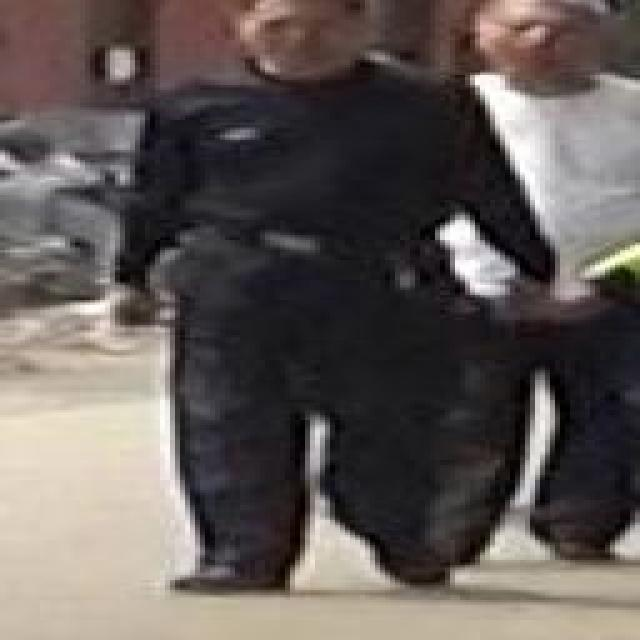adult: (109, 0, 496, 590), (418, 0, 640, 563)
